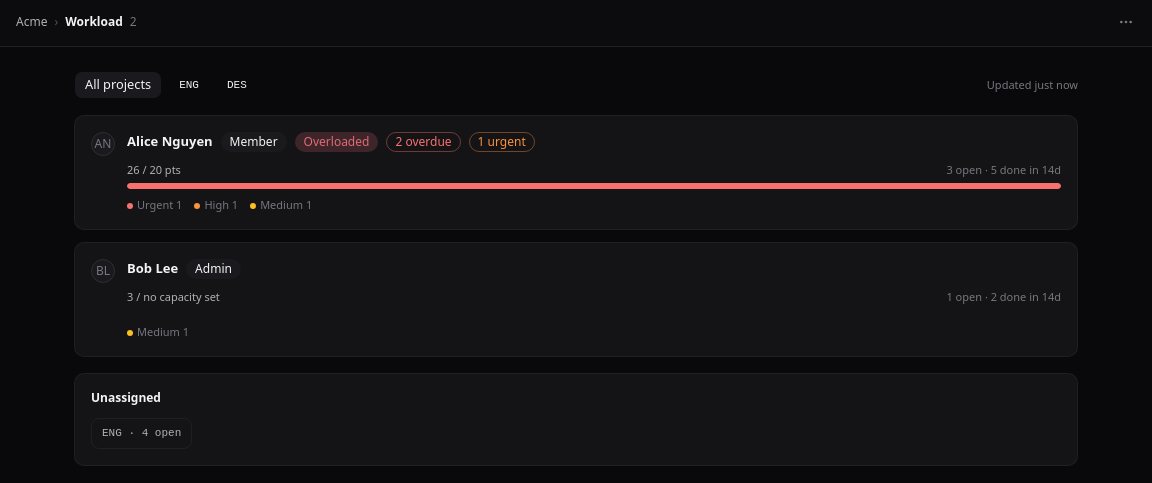
Test: Workload page › filters by project chip and refetches with the project param
Click the button "DES" at (237, 85), box [216,71,258,99]
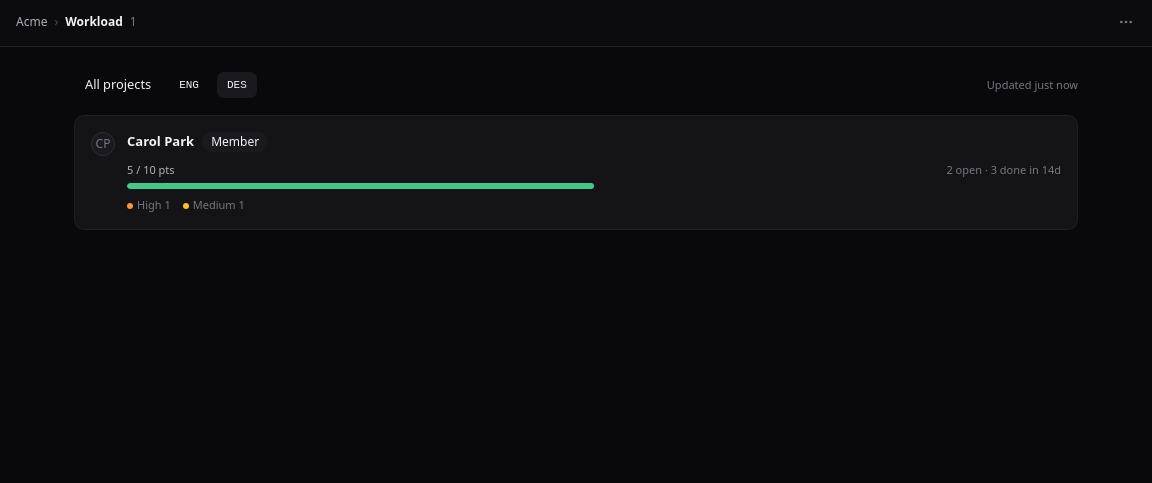
Expected: the link "Carol Park" is shown, [127,132,194,152]
Expected: the link "Alice Nguyen" is gone
